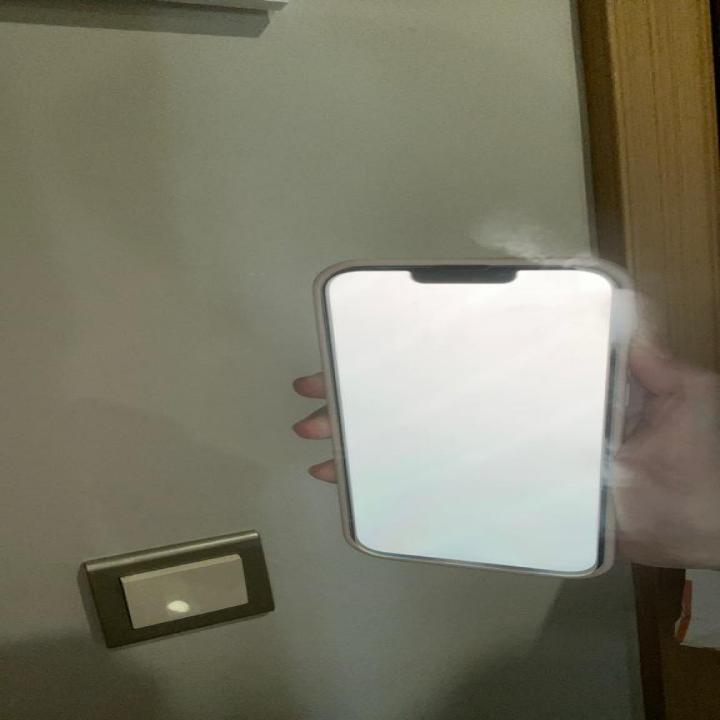phone good: (316, 258, 625, 577)
